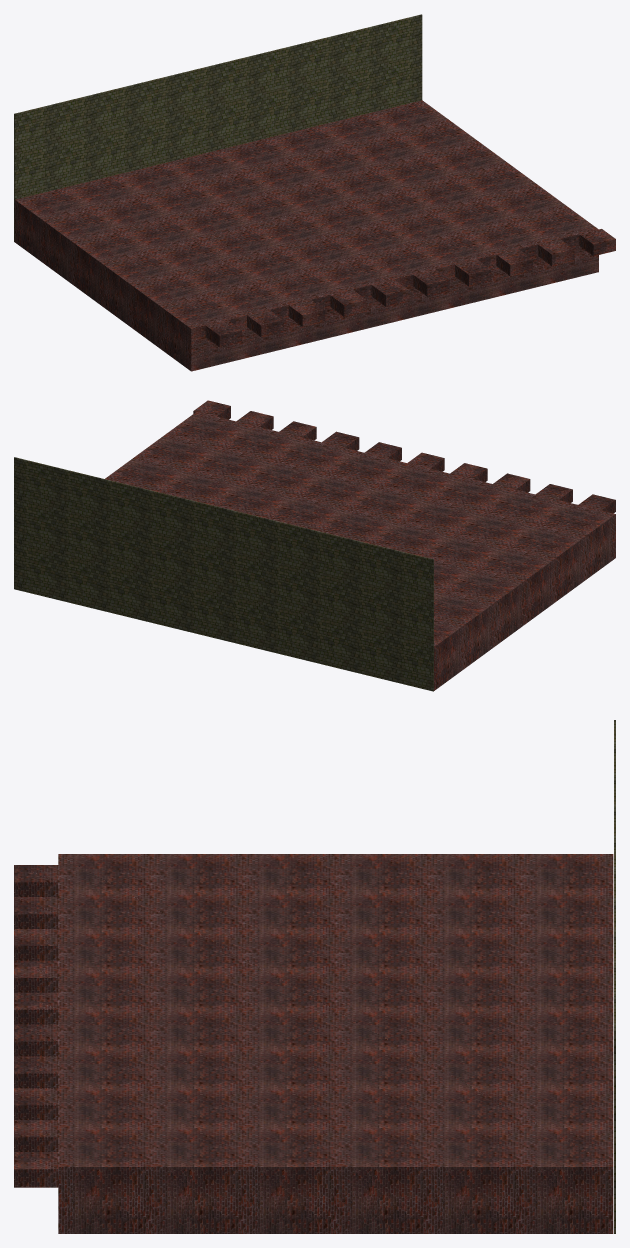
Rendered from keep_t1_5.gltf.
3 renders of one model, top to bottom at view 1: azimuth 30°, elevation 25°; view 2: azimuth 150°, elevation 25°; view 3: azimuth 270°, elevation 25°, orthographic. The views are drawn at different scales.
Visible parts, largest first — view 1: keep_t1_5_wallg, keep_t1_5_ground; view 2: keep_t1_5_ground, keep_t1_5_wallg; view 3: keep_t1_5_wallg, keep_t1_5_ground.
Boxes of the visible parts, <box> form: keep_t1_5_wallg: <box>14,100,615,371</box>; keep_t1_5_ground: <box>14,14,422,241</box>; keep_t1_5_ground: <box>14,457,433,691</box>; keep_t1_5_wallg: <box>105,400,615,690</box>; keep_t1_5_wallg: <box>14,854,613,1233</box>; keep_t1_5_ground: <box>614,720,615,1233</box>.
Bounding box in the file's own units: 40.29 × 12 × 32.54.
Materials: 2 (2 with a texture image).
